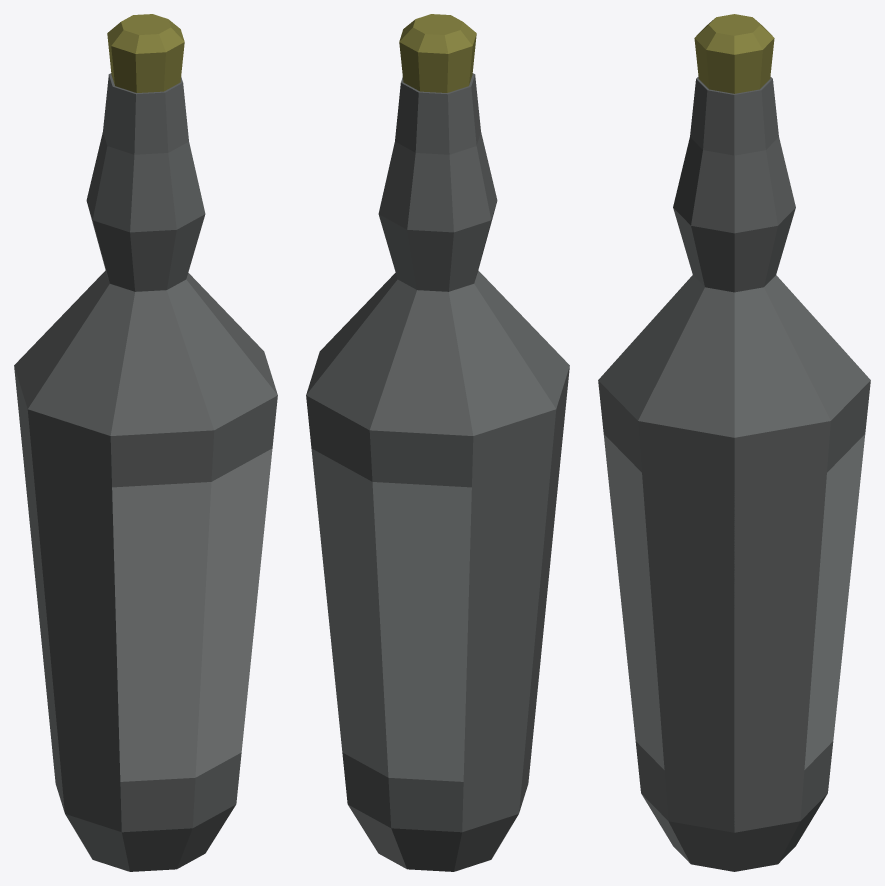
Rendered from Bottle_2_Gray.fbx.
The picture shows the model from 3 angles, left to right: view 1: azimuth 30°, elevation 25°; view 2: azimuth 150°, elevation 25°; view 3: azimuth 270°, elevation 25°; orthographic projection.
Parts seen in each view (by area): view 1: Bottle_2_Gray_Part_1, Bottle_2_Gray_Part_2, Bottle_2_Gray_Part_3; view 2: Bottle_2_Gray_Part_1, Bottle_2_Gray_Part_2, Bottle_2_Gray_Part_3; view 3: Bottle_2_Gray_Part_1, Bottle_2_Gray_Part_2, Bottle_2_Gray_Part_3.
Part boxes in pixels (x1=…): Bottle_2_Gray_Part_1: x1=14, y1=73, x2=277, y2=871; Bottle_2_Gray_Part_2: x1=112, y1=448, x2=272, y2=781; Bottle_2_Gray_Part_3: x1=107, y1=14, x2=184, y2=92; Bottle_2_Gray_Part_1: x1=306, y1=73, x2=569, y2=871; Bottle_2_Gray_Part_2: x1=311, y1=448, x2=471, y2=781; Bottle_2_Gray_Part_3: x1=399, y1=14, x2=476, y2=92; Bottle_2_Gray_Part_1: x1=598, y1=76, x2=870, y2=871; Bottle_2_Gray_Part_2: x1=603, y1=434, x2=865, y2=769; Bottle_2_Gray_Part_3: x1=694, y1=14, x2=774, y2=93.
Bounding box in the file's own units: 12 × 39.85 × 12.
